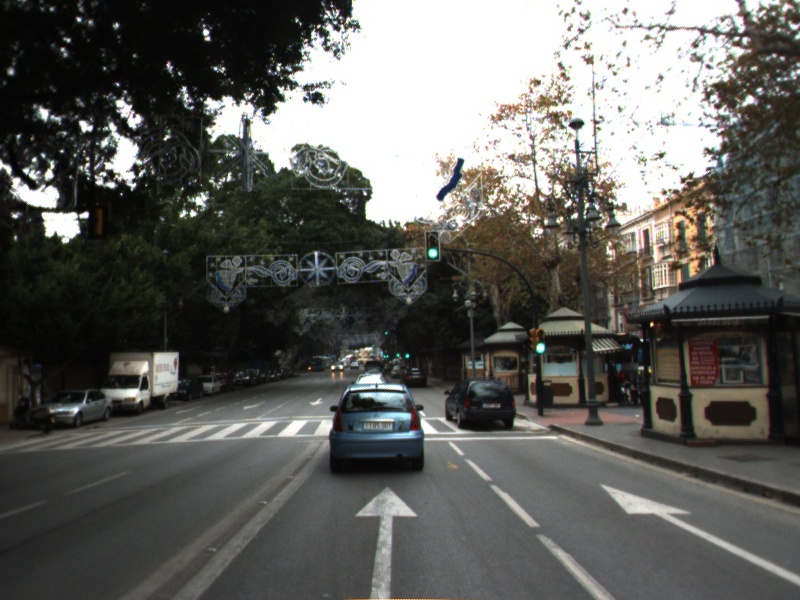STRAIGHT: (597, 481, 800, 587), (351, 483, 421, 600)
